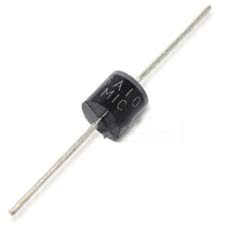diode: (56, 59, 156, 157)
